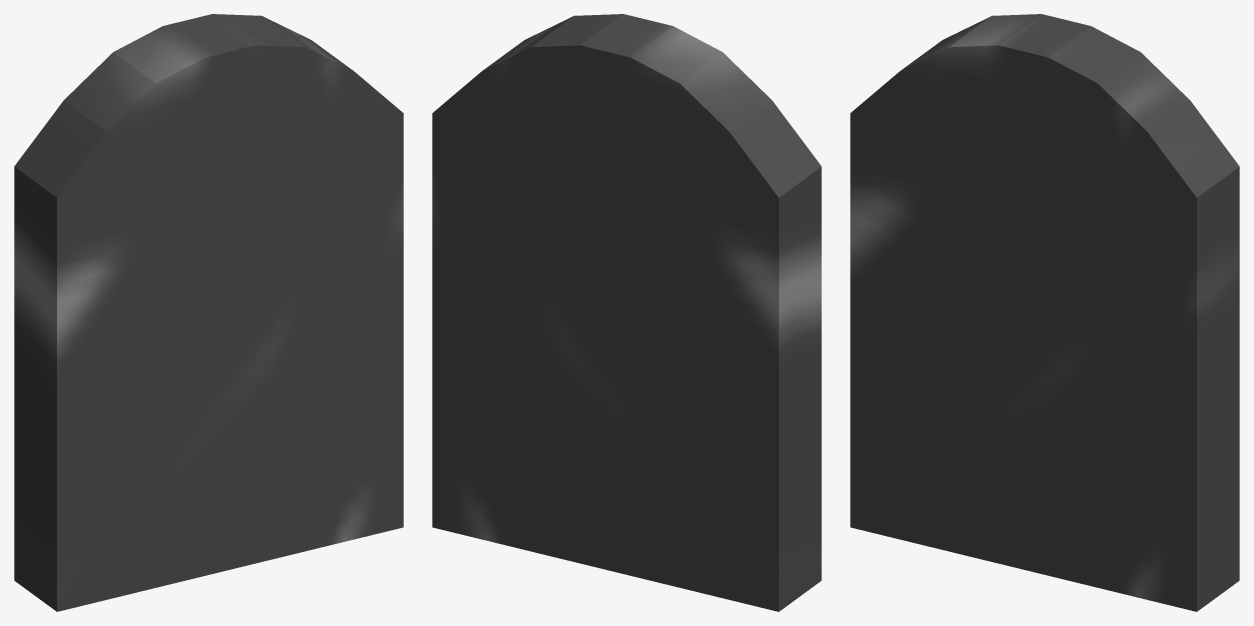
File: tombstone1.obj
3 views of the same model, side by side, from view 1: azimuth 30°, elevation 25°; view 2: azimuth 150°, elevation 25°; view 3: azimuth 330°, elevation 25° (orthographic).
Parts seen in each view (by area): view 1: Cube.001; view 2: Cube.001; view 3: Cube.001.
Part boxes in pixels (left/top/right/bottom): Cube.001: left=14, top=14, right=403, bottom=611; Cube.001: left=432, top=14, right=821, bottom=611; Cube.001: left=850, top=14, right=1239, bottom=611.
Size of the model in its own units: 1.4 by 2 by 0.3.
Materials: 1 (1 with a texture image).
